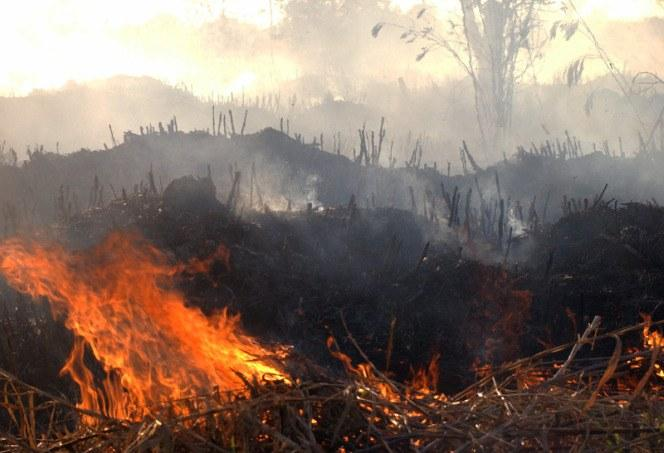fire: (89, 287, 181, 400), (0, 239, 84, 294)
